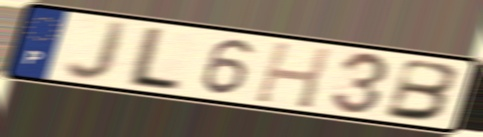3: (329, 50, 392, 117)
6: (200, 37, 257, 98)
B: (381, 56, 463, 124)
H: (251, 39, 335, 111)
J: (63, 18, 132, 84)
L: (120, 25, 187, 94)
